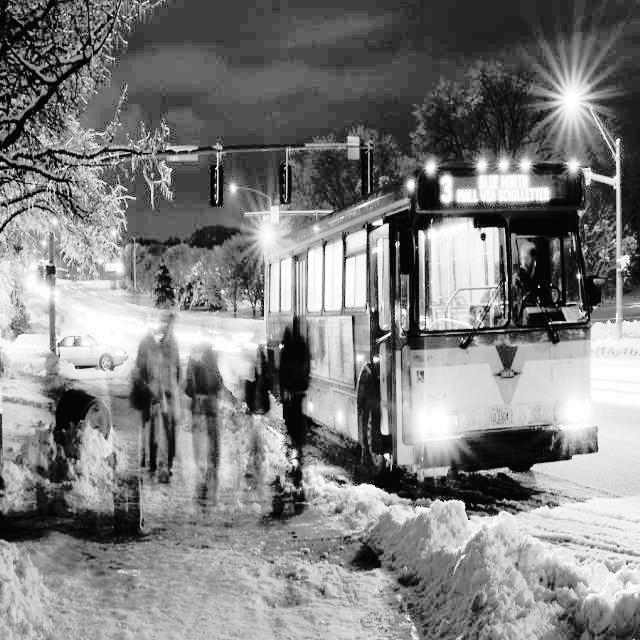Bus: (255, 158, 614, 481)
Car: (48, 315, 127, 393)
